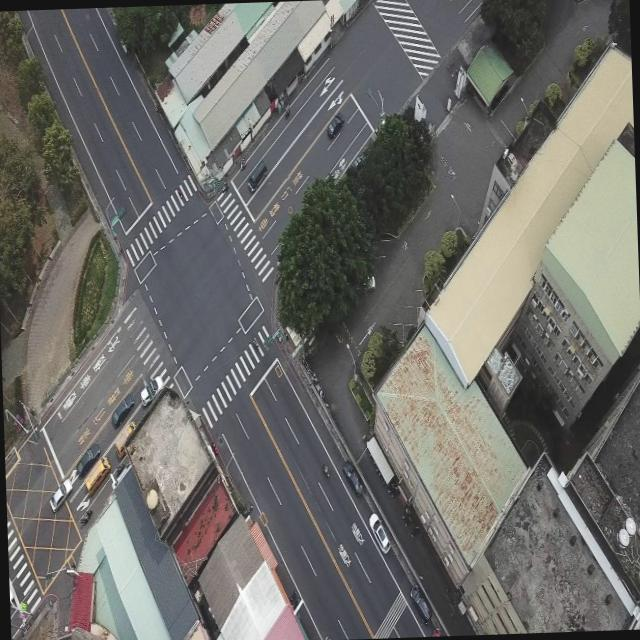bike: (80, 507, 92, 525), (115, 461, 125, 476), (322, 462, 329, 478), (222, 179, 230, 192), (240, 157, 246, 169)
car: (410, 584, 433, 626), (369, 512, 390, 554), (48, 476, 72, 512), (77, 443, 101, 478), (140, 377, 164, 408), (110, 396, 134, 426), (246, 161, 268, 193), (344, 460, 363, 494), (328, 112, 343, 138), (431, 626, 442, 636)
